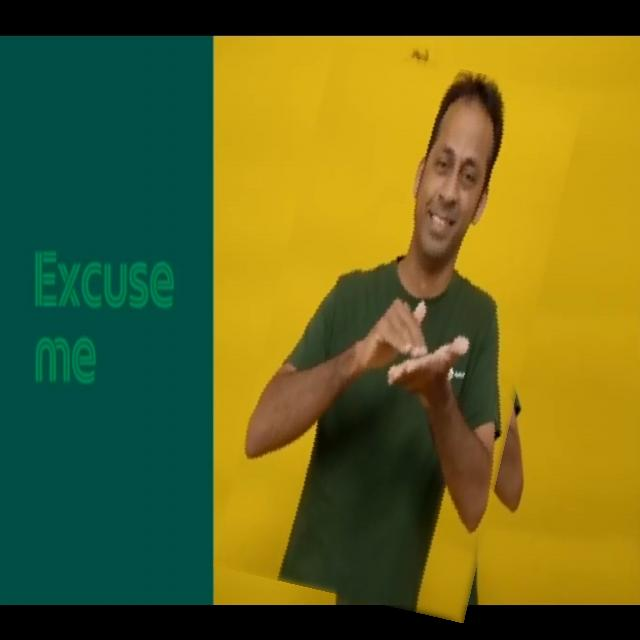ExcuseMe: (242, 51, 555, 612)
